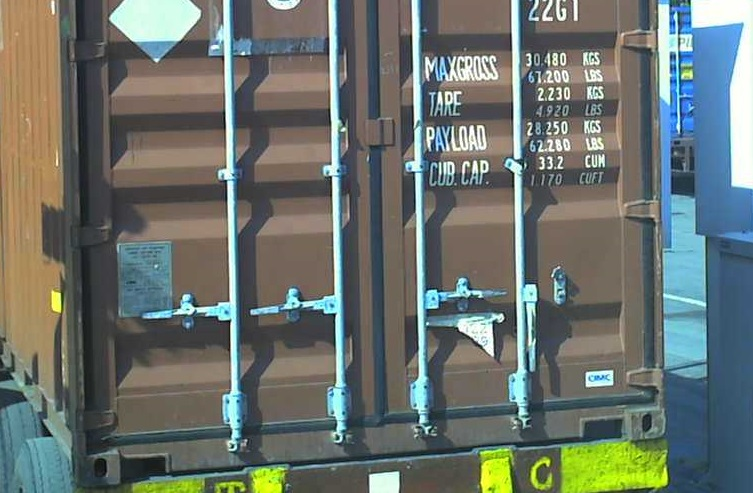container_door: (81, 5, 660, 472)
